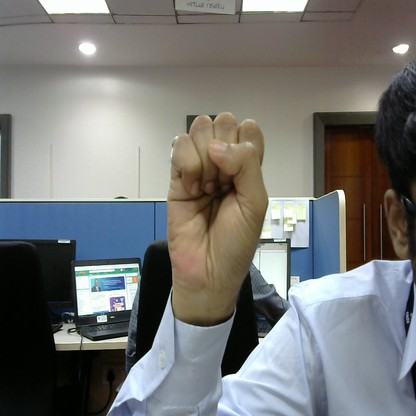s: (162, 101, 275, 303)
